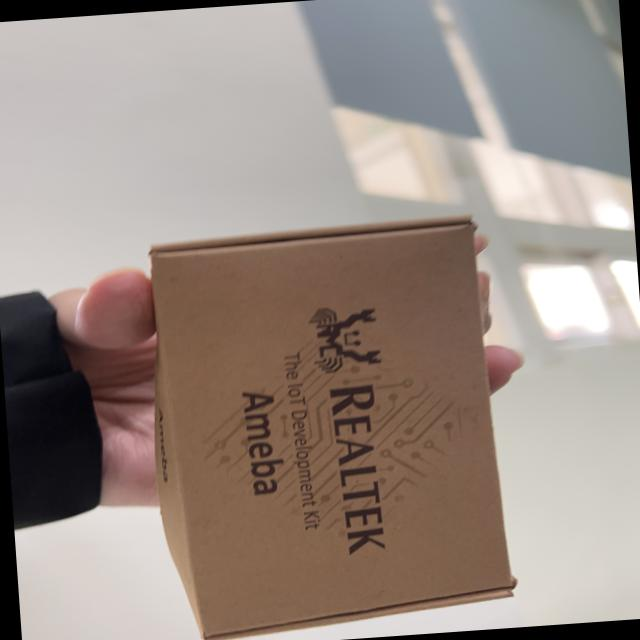box: (119, 203, 535, 640)
